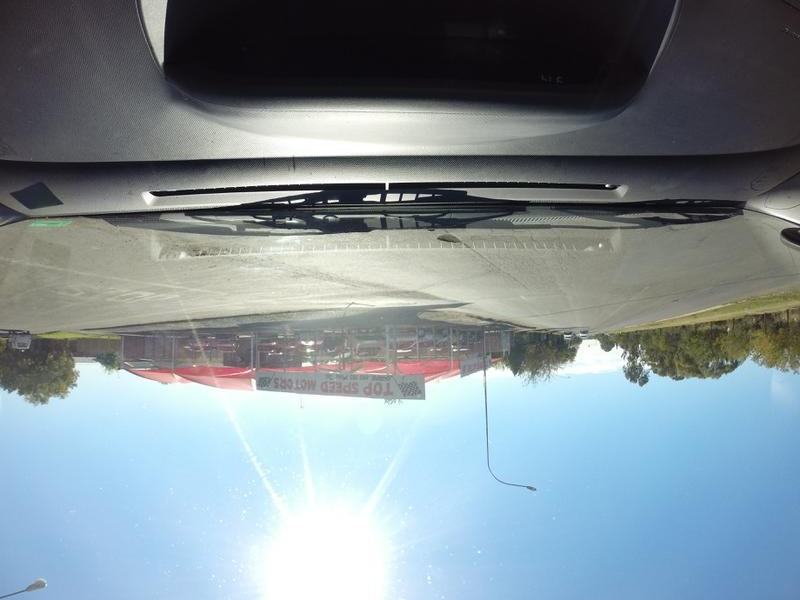pothole: (178, 247, 215, 261), (437, 233, 461, 249)
